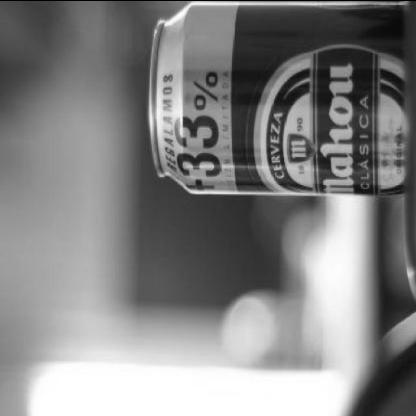alumunium_can: (149, 0, 416, 194)
